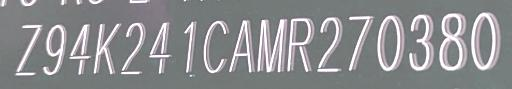letter: (255, 14, 289, 75), (469, 10, 501, 71), (437, 12, 469, 71), (284, 16, 316, 75), (375, 11, 405, 72), (226, 18, 256, 75), (92, 20, 122, 77), (346, 12, 374, 73), (406, 12, 434, 73), (14, 23, 46, 76), (315, 15, 343, 74), (120, 22, 148, 75), (202, 17, 228, 74), (146, 18, 172, 75), (41, 23, 67, 78), (66, 23, 92, 76), (181, 18, 197, 75)
